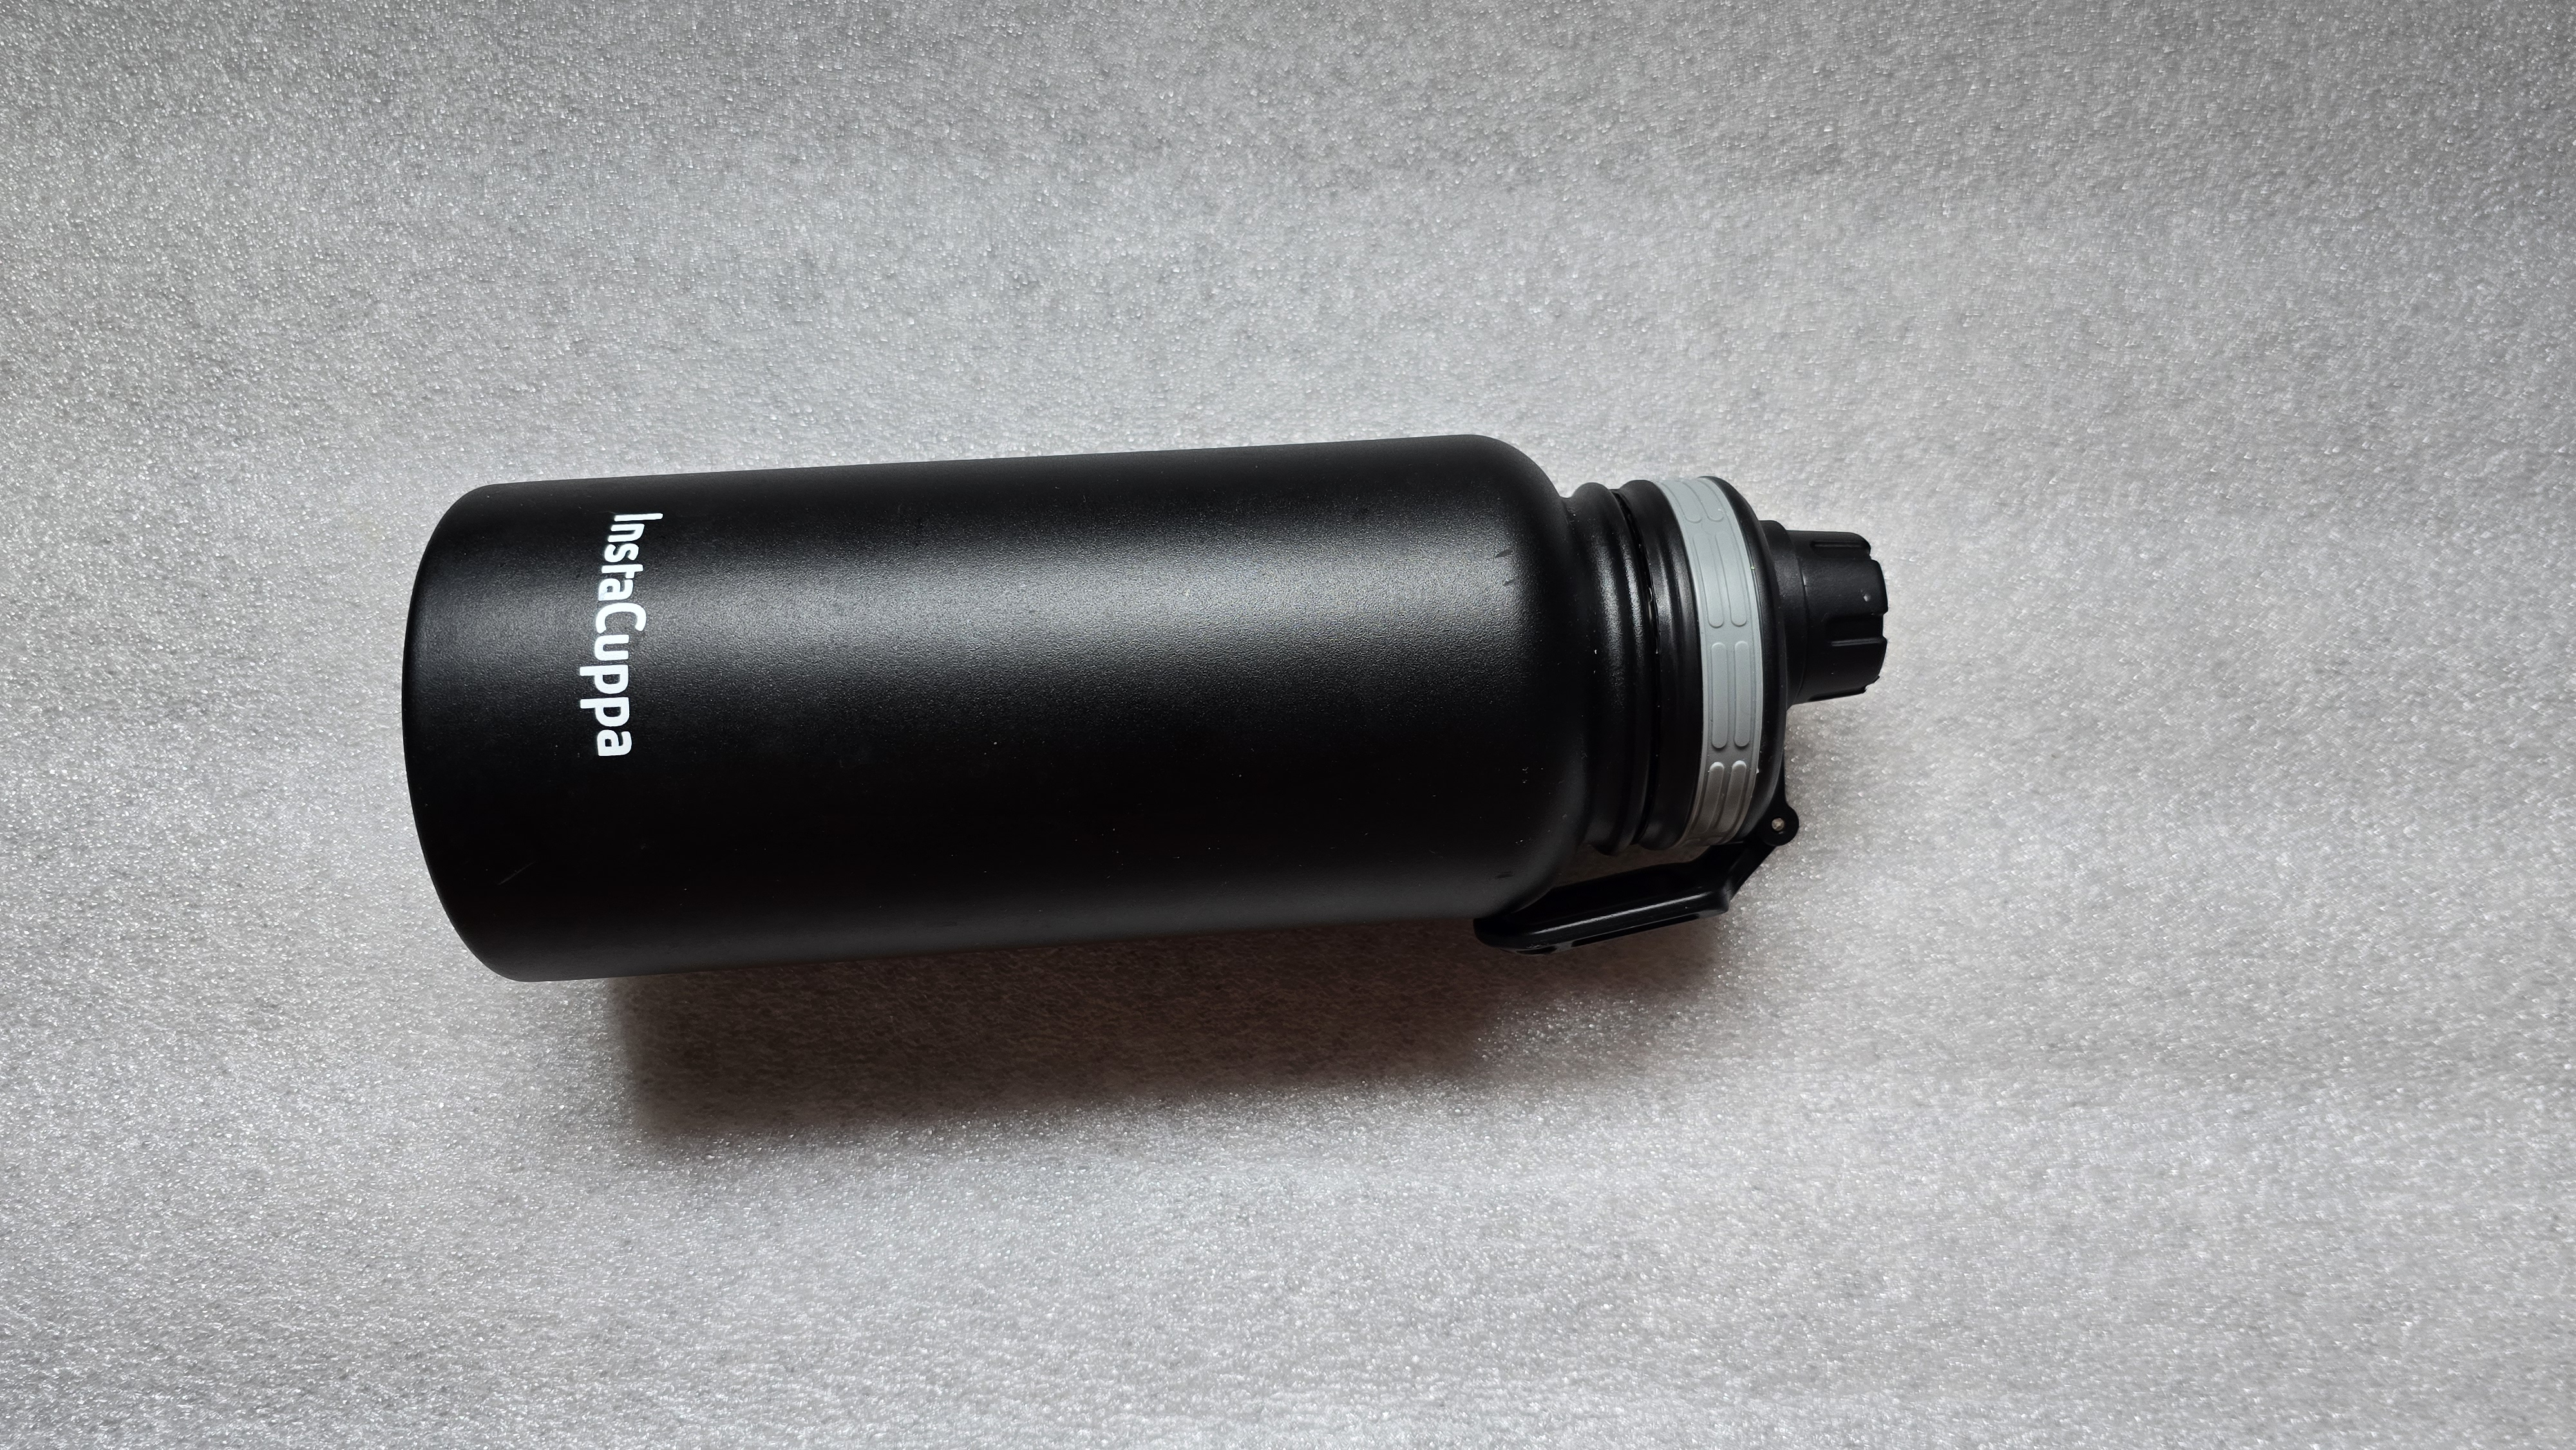bottle: (391, 414, 1941, 1050)
